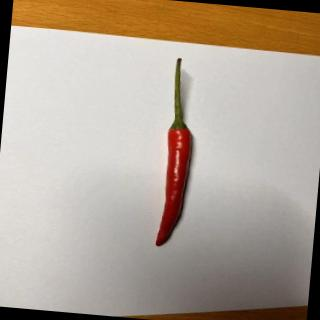Cabai Merah: (156, 58, 200, 250)
